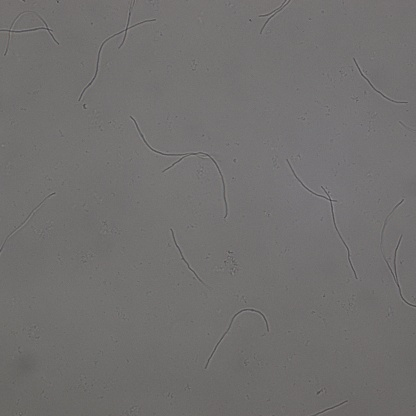Sensitive: (130, 117, 229, 219), (78, 6, 158, 102), (379, 197, 416, 308), (204, 306, 269, 368), (1, 192, 55, 253), (322, 186, 357, 279), (1, 9, 60, 57), (353, 57, 408, 105), (286, 159, 337, 205), (170, 229, 208, 289), (258, 1, 289, 36)
